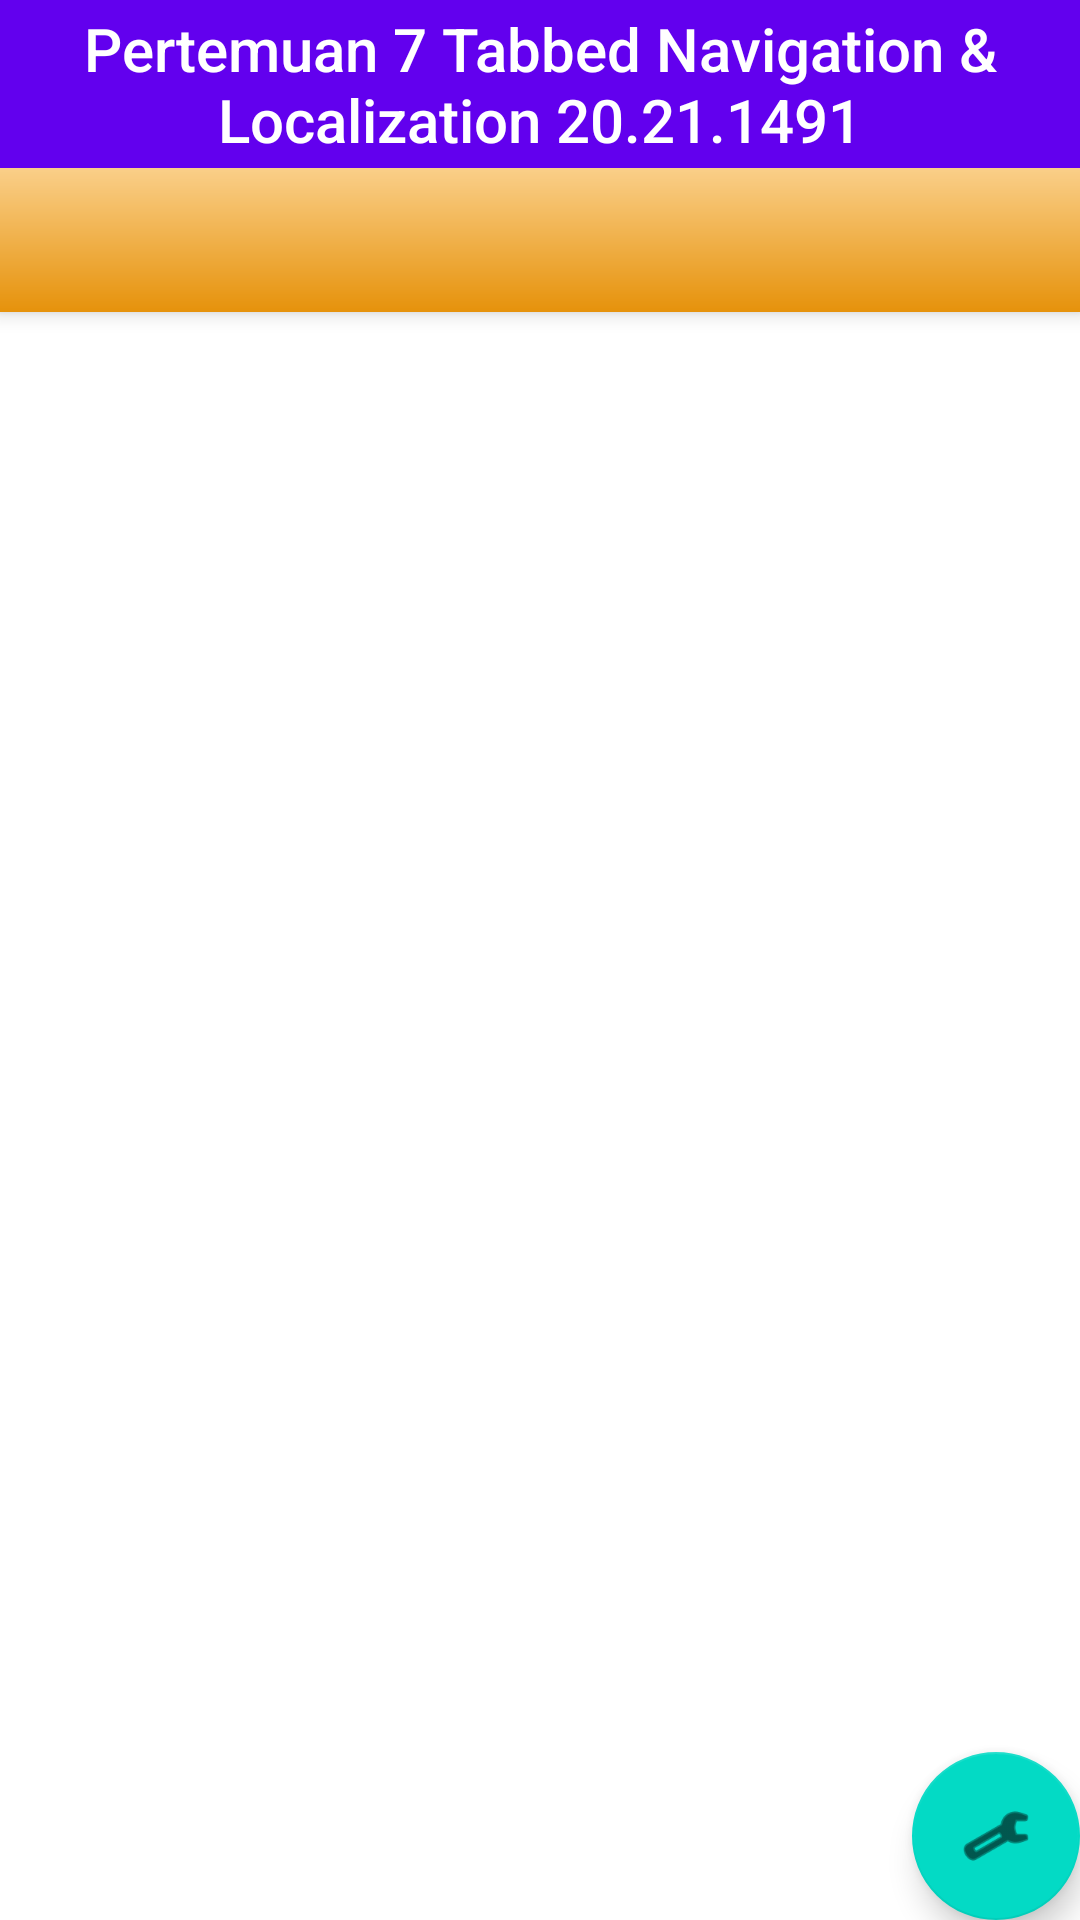

Icon click points for this 1080*1920 phone screenshot, format point (x, y):
preferences: point (996, 1836)
